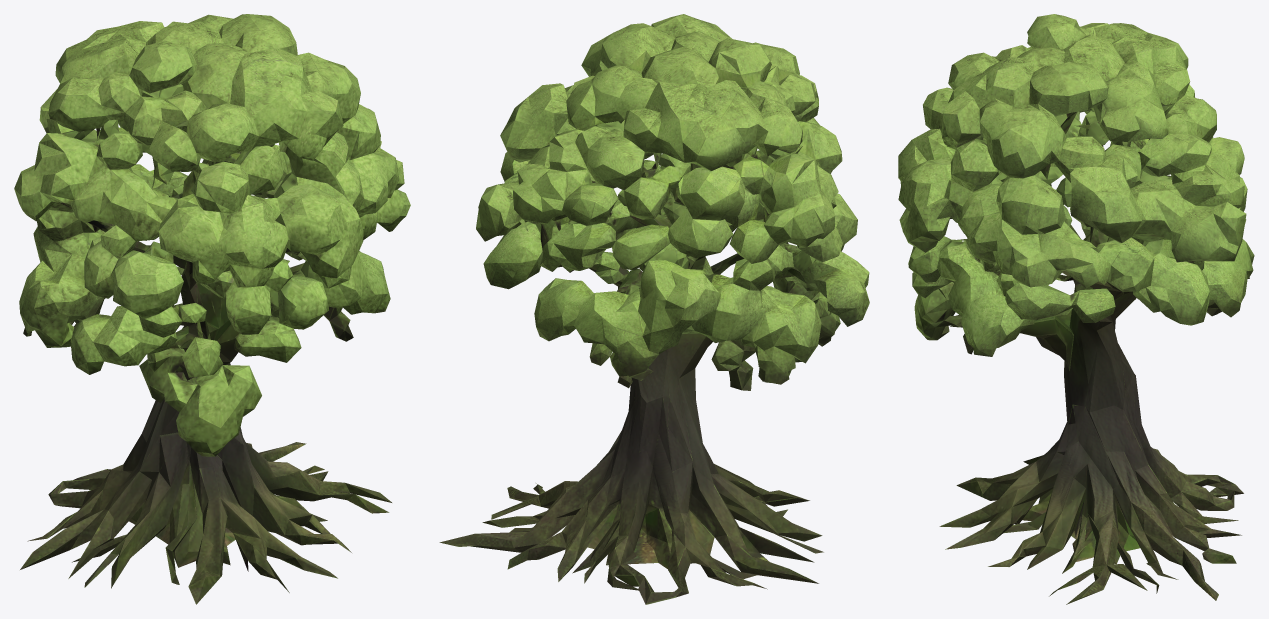
The model's file is oak_a.glb.
The picture shows the model from 3 angles, left to right: view 1: azimuth 30°, elevation 25°; view 2: azimuth 150°, elevation 25°; view 3: azimuth 270°, elevation 25°; orthographic projection. The views are drawn at different scales.
Size of the model in its own units: 1.35 by 1.89 by 1.26.
Materials: 1 (1 with a texture image).
